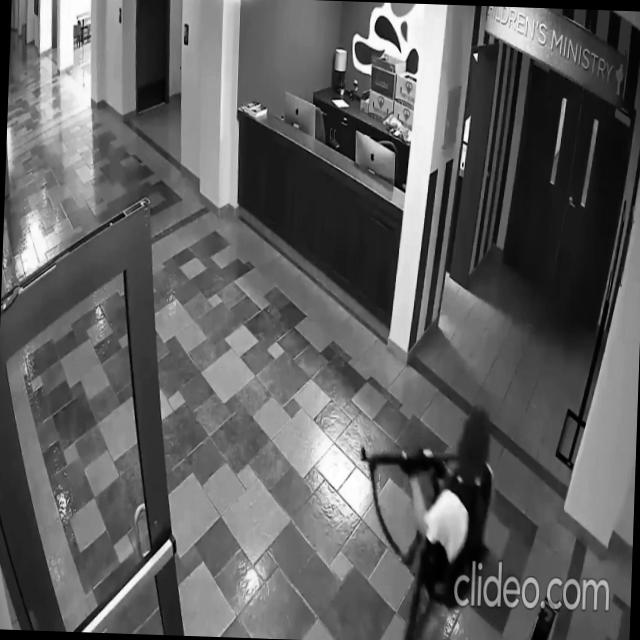gun: (359, 446, 461, 476)
person with a gun: (353, 398, 498, 640)
